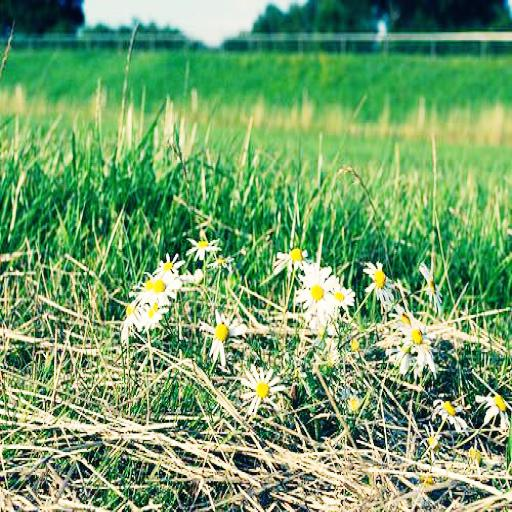daisy: (242, 366, 284, 406), (298, 268, 336, 308), (209, 315, 241, 358), (432, 395, 467, 432), (402, 318, 432, 360), (483, 388, 512, 428), (138, 269, 172, 300), (367, 263, 392, 298), (422, 268, 440, 306), (278, 251, 312, 269), (189, 234, 215, 254), (124, 294, 139, 326)
